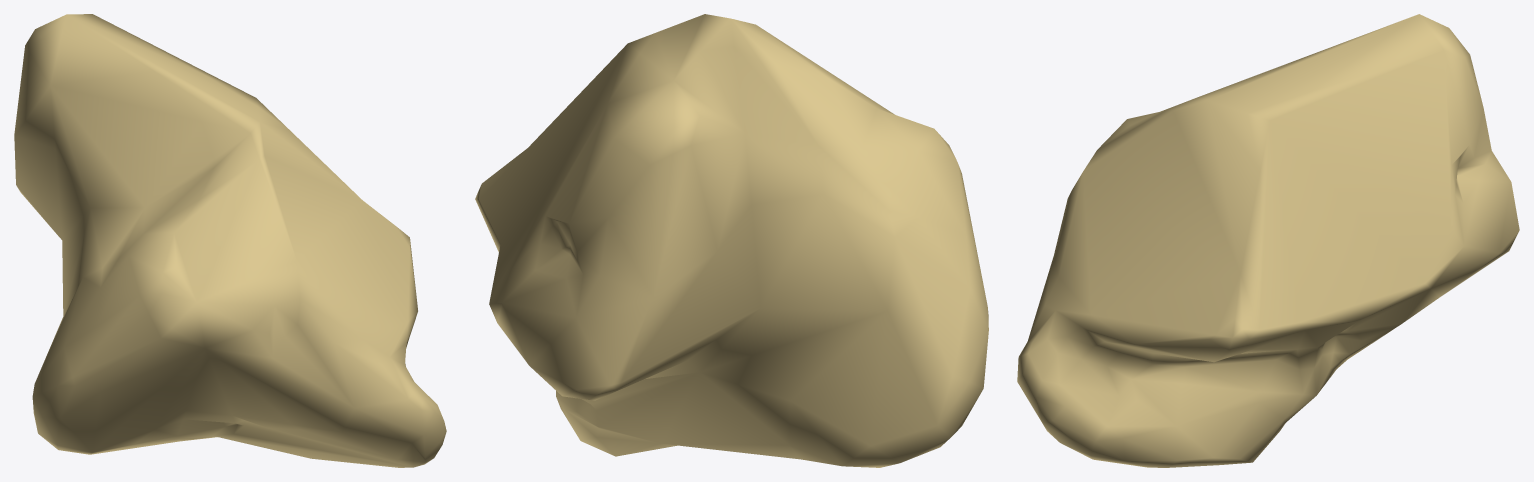
3 renders of one model, left to right at view 1: azimuth 30°, elevation 25°; view 2: azimuth 150°, elevation 25°; view 3: azimuth 270°, elevation 25°, orthographic. The views are drawn at different scales.
Visible parts, largest first — view 1: 右侧大多角骨; view 2: 右侧大多角骨; view 3: 右侧大多角骨.
Boxes of the visible parts, x1=… form: 右侧大多角骨: x1=14, y1=14, x2=446, y2=467; 右侧大多角骨: x1=475, y1=14, x2=988, y2=467; 右侧大多角骨: x1=1017, y1=14, x2=1519, y2=467.
Bounding box in the file's own units: 0.026 × 0.0258 × 0.0306.
